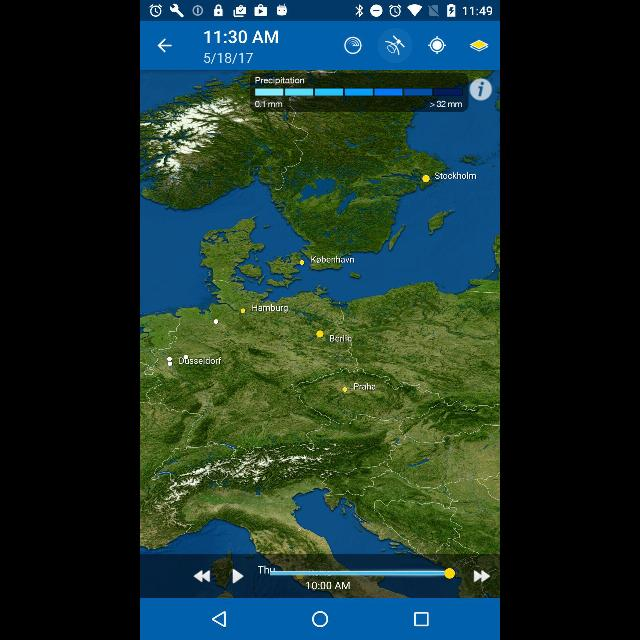icon: (378, 29, 412, 63), (344, 37, 362, 55), (428, 37, 446, 55), (312, 611, 328, 627), (212, 611, 226, 627), (414, 612, 428, 626)
map: (140, 70, 500, 598)
panel: (140, 598, 500, 638)
text: (205, 30, 278, 44), (204, 51, 253, 64), (469, 40, 489, 52), (157, 38, 171, 52)
toolbar: (140, 20, 500, 70)
uppertaskbar: (140, 0, 500, 20)
